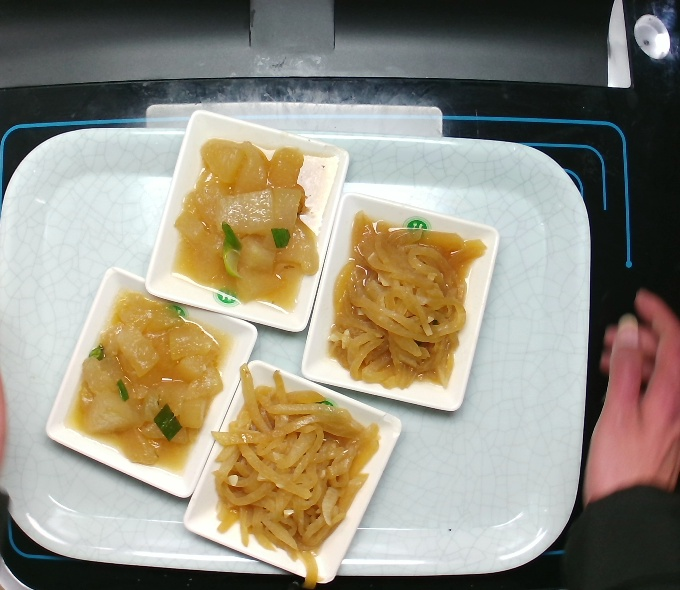wcq-DongGua: (61, 285, 235, 471), (164, 129, 338, 315)
wcq-LuoBoSi: (207, 359, 380, 585), (322, 205, 490, 400)
